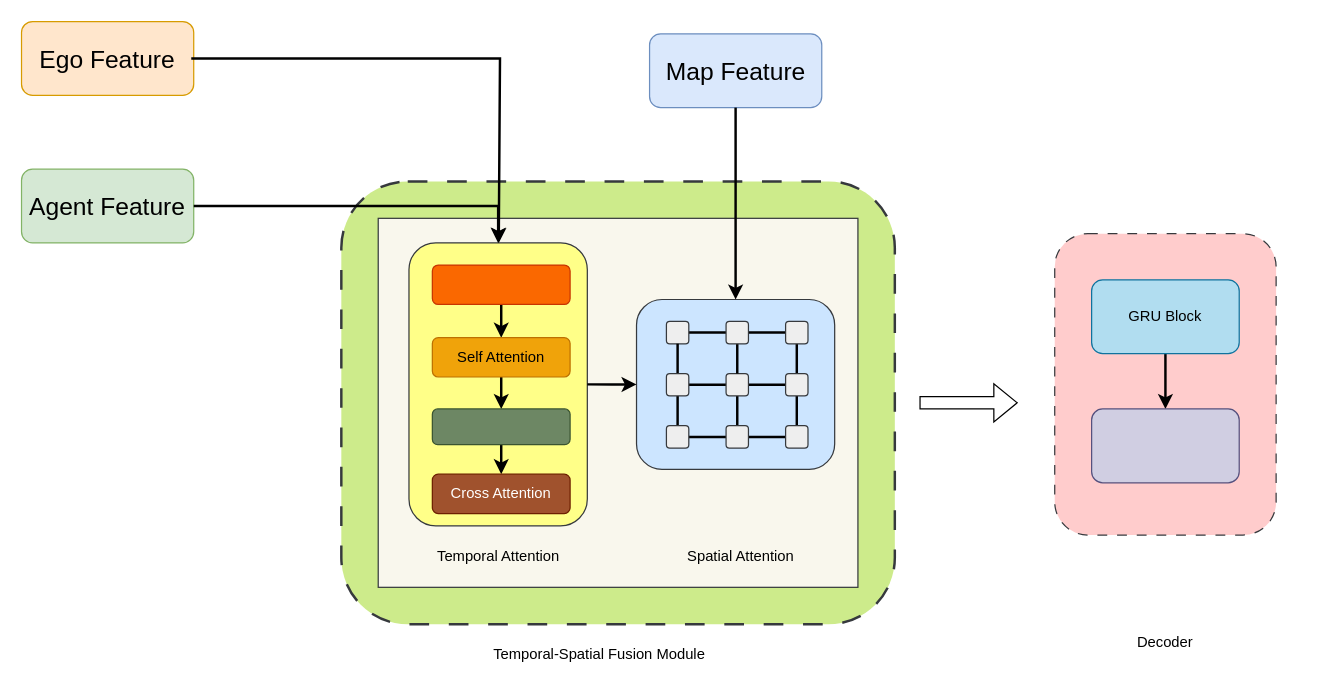
This 1335x695 diagram has some shape labels left out. Here are the shapes that lost their labels. From the top down, the centre of each, then its label:
At (500,284): "Input".
At (500,426): "Time Embedding".
At (1164,445): "MLP".
